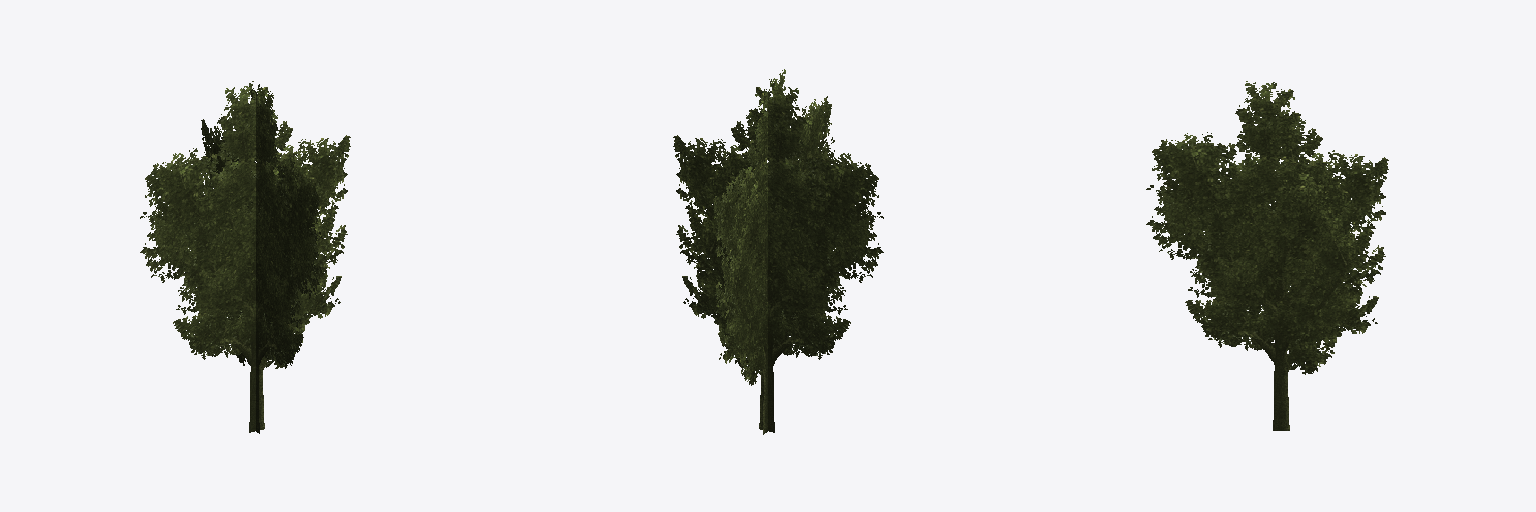
3 views of the same model, side by side, from view 1: azimuth 30°, elevation 25°; view 2: azimuth 150°, elevation 25°; view 3: azimuth 270°, elevation 25° (orthographic).
Visible parts, largest first — view 1: CreateFan; view 2: CreateFan; view 3: CreateFan.
Boxes of the visible parts, box(x1,y1,x2,y2) form: CreateFan: box(140, 81, 350, 433); CreateFan: box(673, 69, 883, 434); CreateFan: box(1146, 81, 1388, 430).
Size of the model in its own units: 17.38 by 25 by 17.38.
Materials: 1 (1 with a texture image).